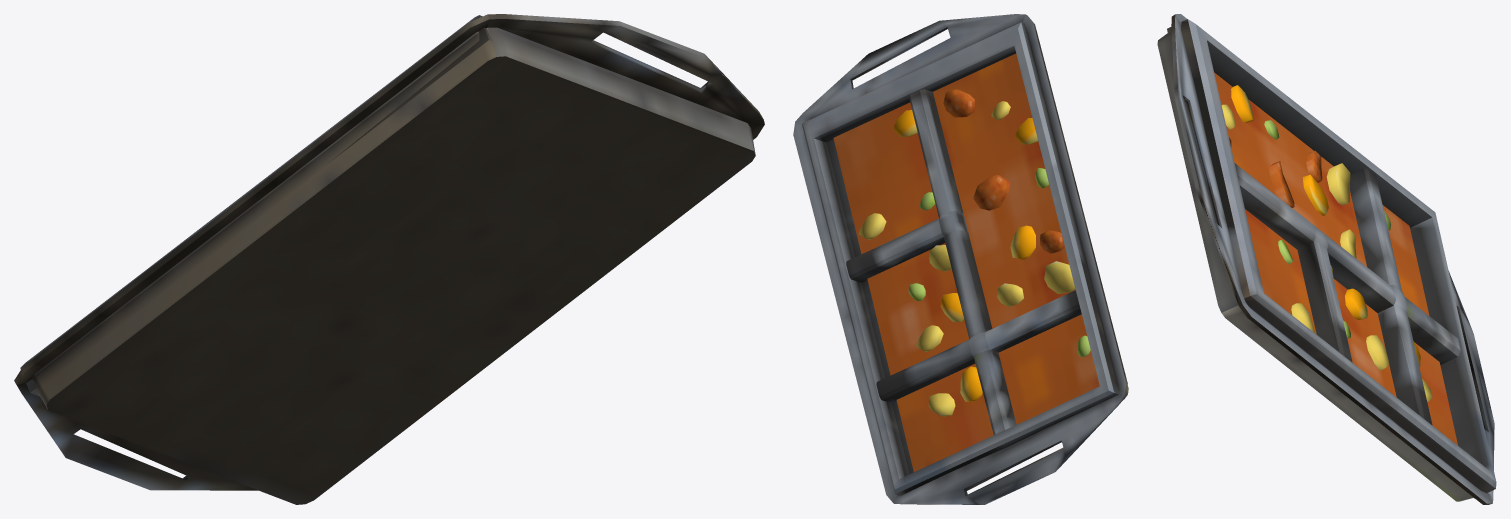
The model's file is H_MessTray_Liquid.fbx.
3 views of the same model, side by side, from view 1: azimuth 30°, elevation 25°; view 2: azimuth 150°, elevation 25°; view 3: azimuth 270°, elevation 25° (orthographic). The views are drawn at different scales.
Visible parts, largest first — view 1: MessTray.001; view 2: MessTray.001; view 3: MessTray.001.
Boxes of the visible parts, bbox=[...] form: MessTray.001: bbox=[14, 14, 764, 504]; MessTray.001: bbox=[793, 14, 1128, 504]; MessTray.001: bbox=[1157, 14, 1496, 504].
Size of the model in its own units: 72.82 by 68.45 by 43.
